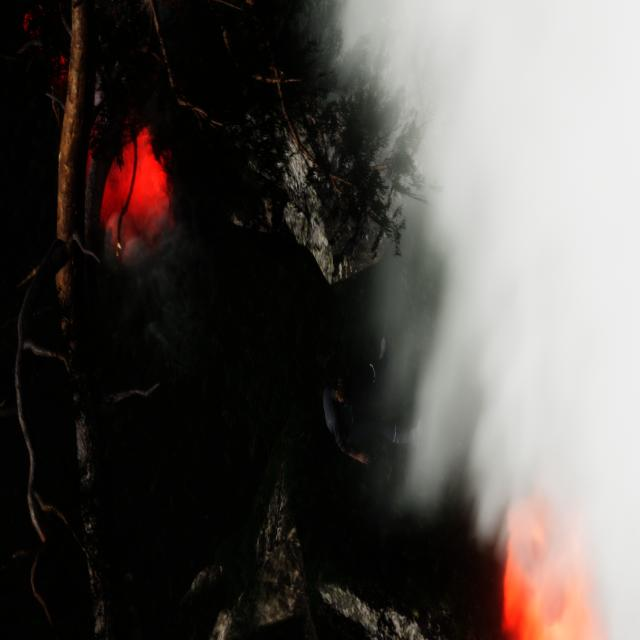Human: (318, 332, 429, 467)
